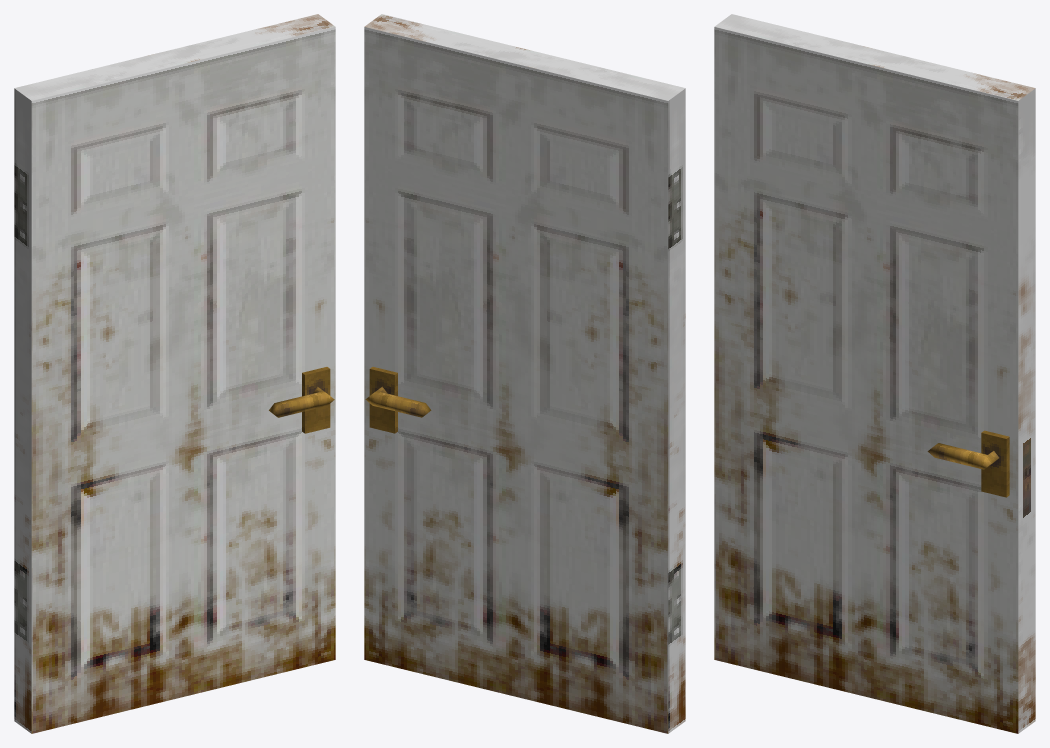
Rendered from door_003.glb.
3 renders of one model, left to right at view 1: azimuth 30°, elevation 25°; view 2: azimuth 150°, elevation 25°; view 3: azimuth 330°, elevation 25°, orthographic.
Visible parts, largest first — view 1: Door06; view 2: Door06; view 3: Door06.
Part boxes in pixels (bbox=[...]): Door06: bbox=[14, 14, 335, 733]; Door06: bbox=[364, 14, 685, 733]; Door06: bbox=[714, 14, 1035, 733].
Bounding box in the file's own units: 1 × 1.99 × 0.2643.
Materials: 2 (2 with a texture image).
